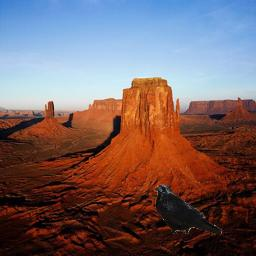Crow: (153, 184, 222, 234)
